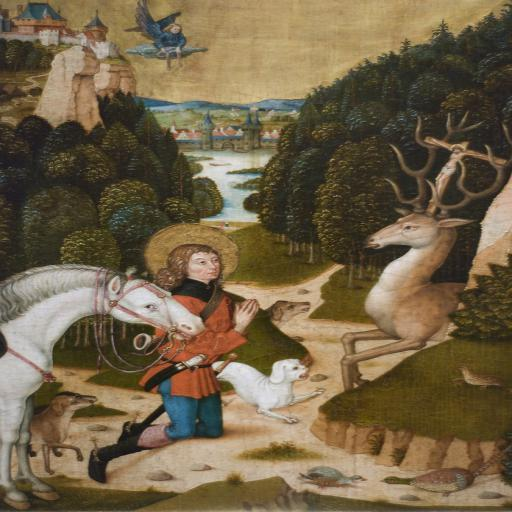horse: (0, 261, 208, 510)
